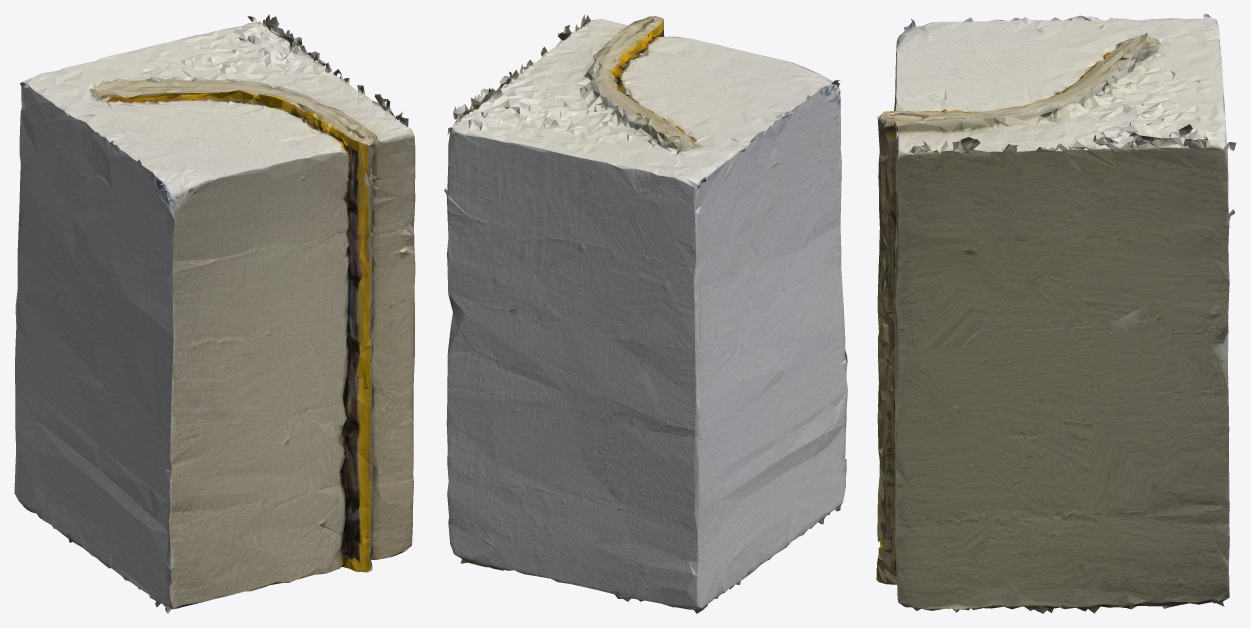
File: book2.fbx
The picture shows the model from 3 angles, left to right: view 1: azimuth 30°, elevation 25°; view 2: azimuth 150°, elevation 25°; view 3: azimuth 270°, elevation 25°; orthographic projection. The views are drawn at different scales.
Parts seen in each view (by area): view 1: book2.061; view 2: book2.061; view 3: book2.061.
Part boxes in pixels (x1,y1,x2,y2): book2.061: (14,14,415,613); book2.061: (444,14,847,613); book2.061: (876,14,1236,613).
Size of the model in its own units: 121 by 206 by 137.
